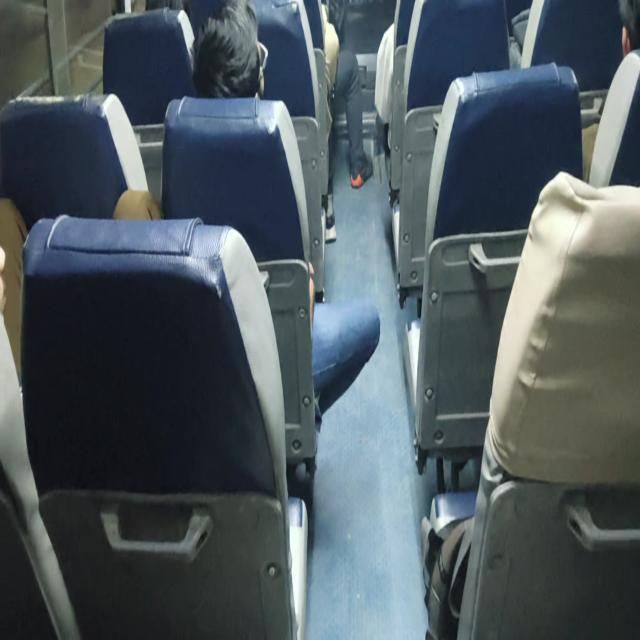person: (203, 0, 274, 96), (136, 0, 206, 24), (616, 0, 640, 62)
